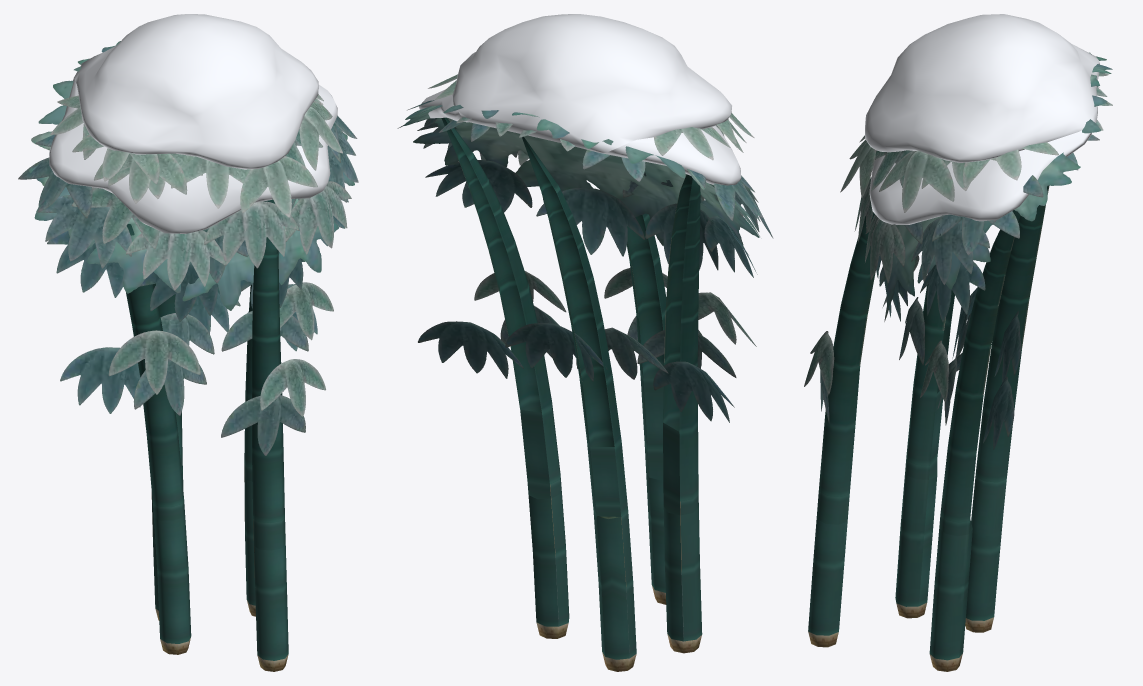
File: bamboo-winter.glb
The picture shows the model from 3 angles, left to right: view 1: azimuth 30°, elevation 25°; view 2: azimuth 150°, elevation 25°; view 3: azimuth 270°, elevation 25°; orthographic projection. The views are drawn at different scales.
Size of the model in its own units: 20.81 by 35.4 by 16.82.
4 materials, 3 textured.
